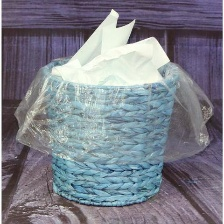tissue: (44, 3, 176, 93)
